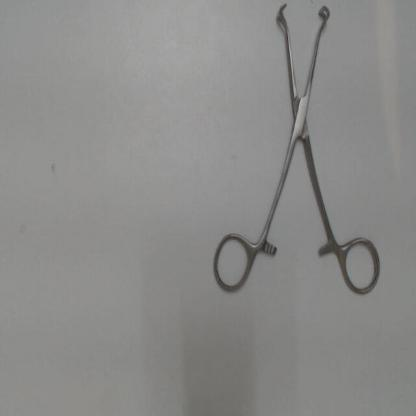Babcock Tissue Forceps: (208, 2, 391, 300)
